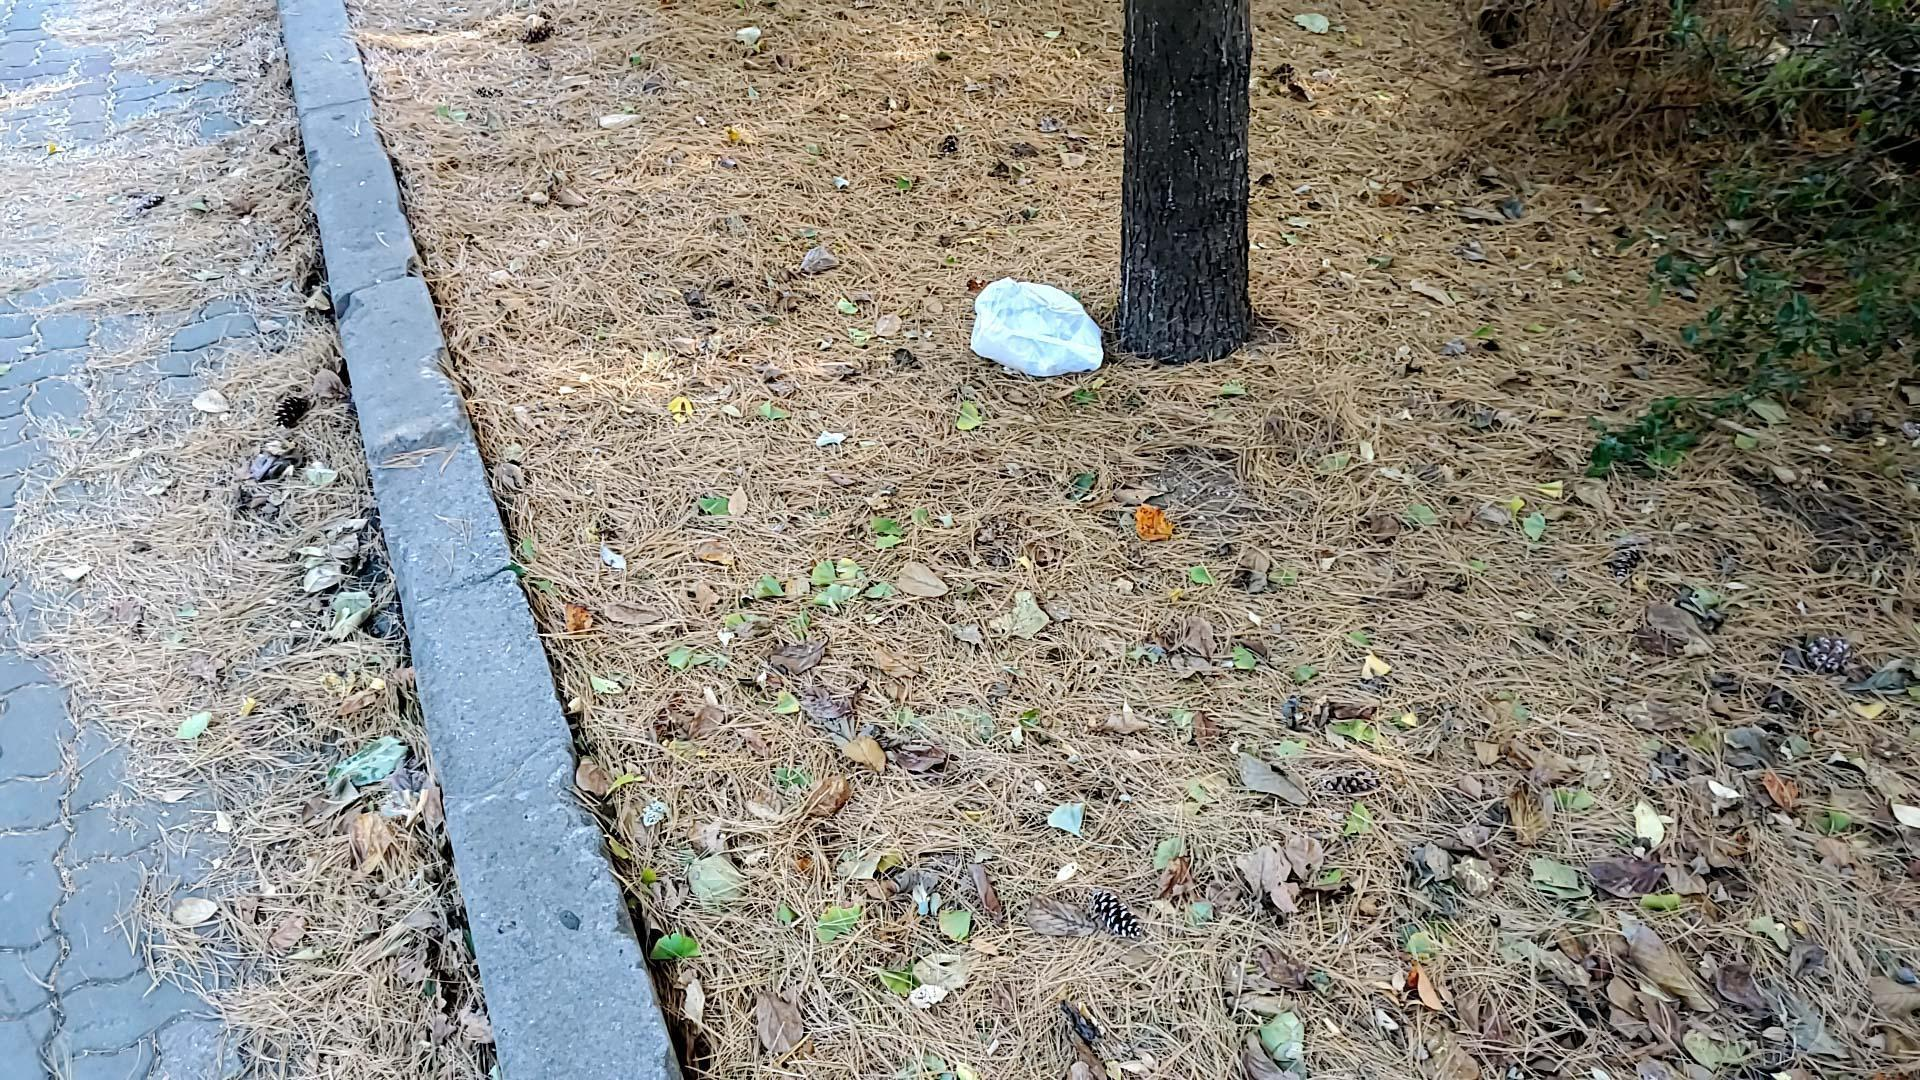white_bag: (957, 272, 1109, 382)
